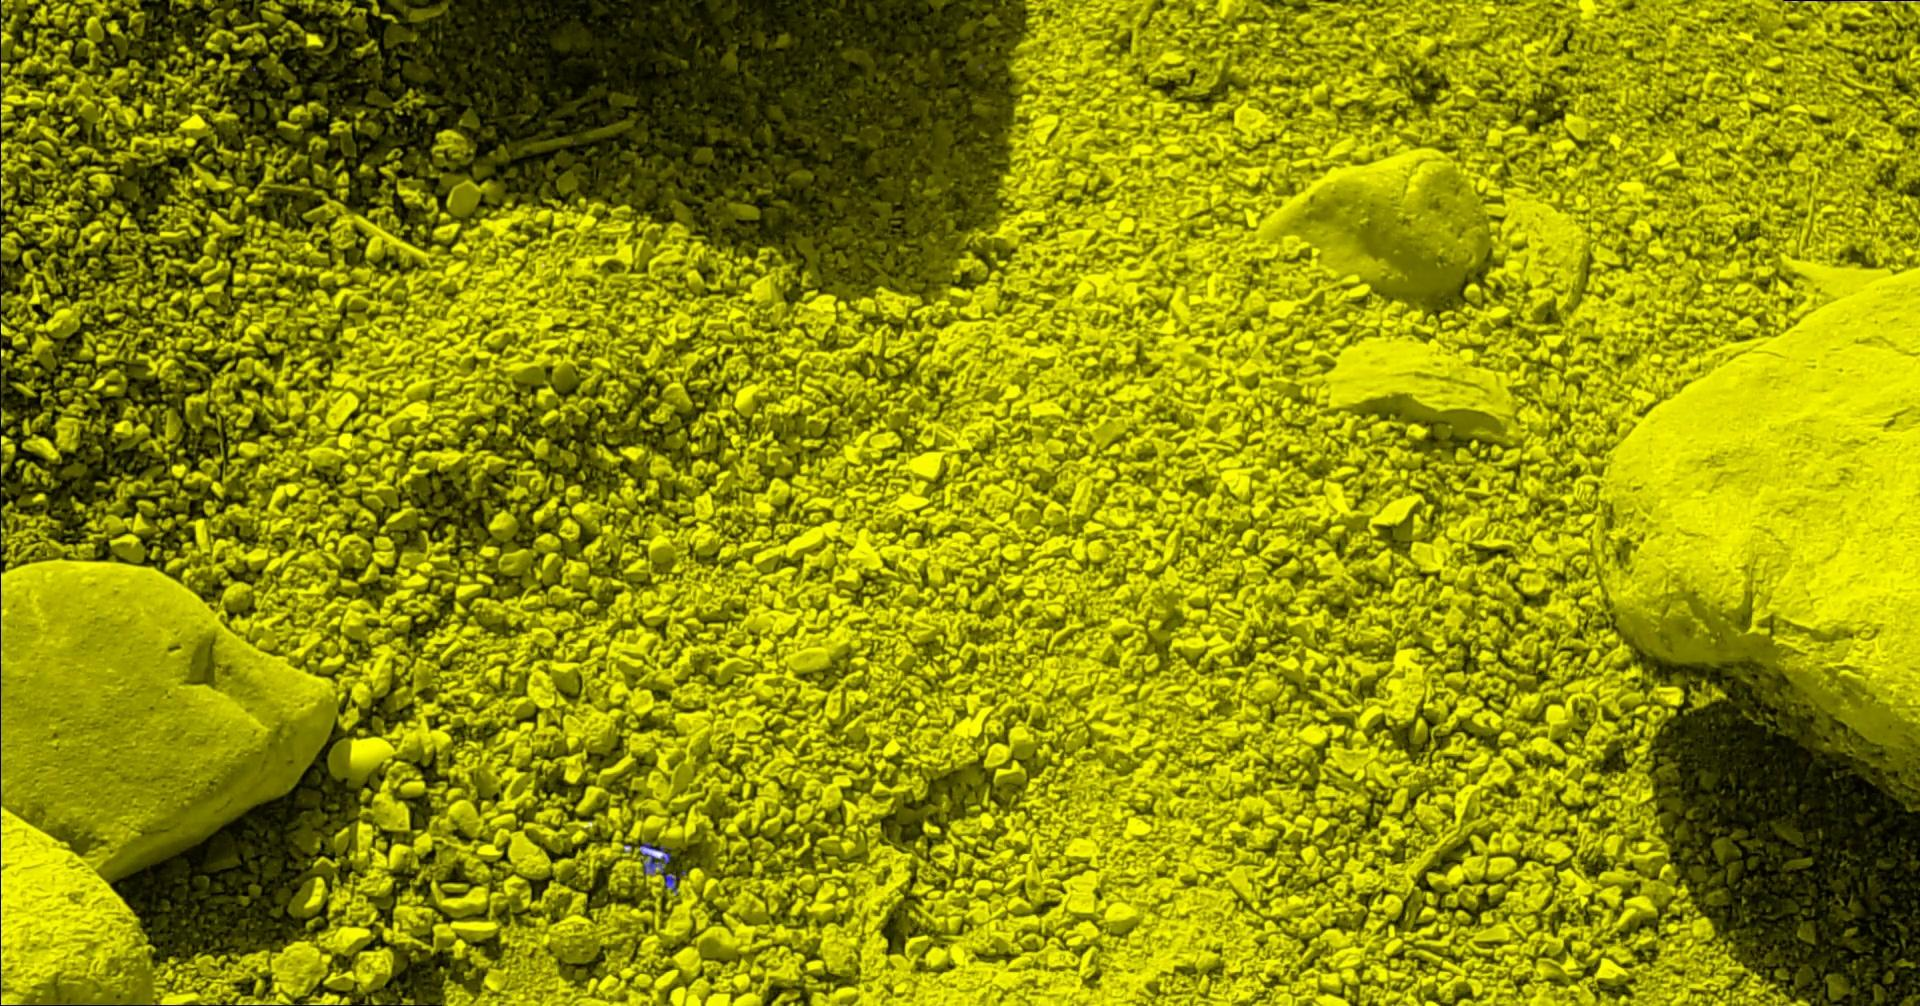ant: (639, 840, 670, 875), (663, 873, 679, 895)
